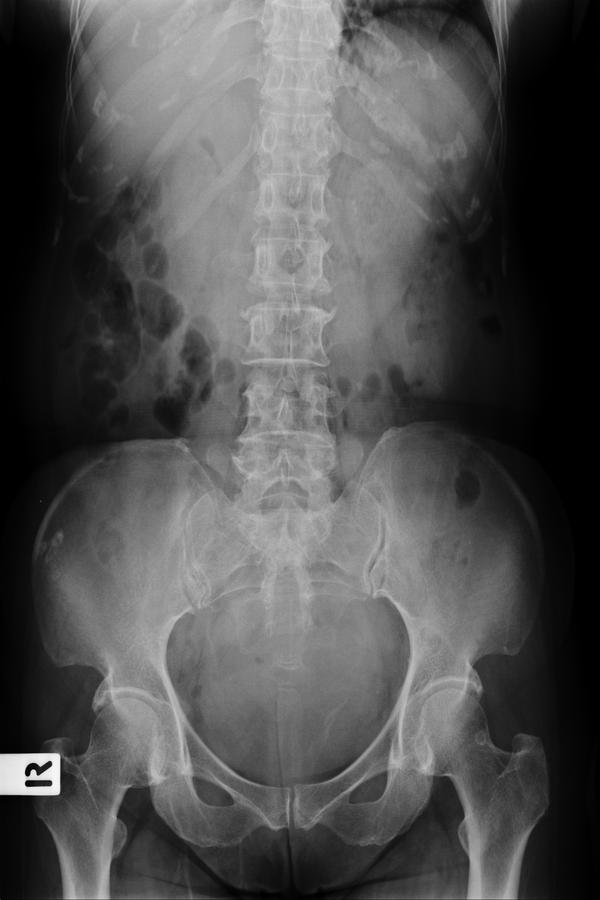lumbar scoliosis: (232, 3, 339, 515)
